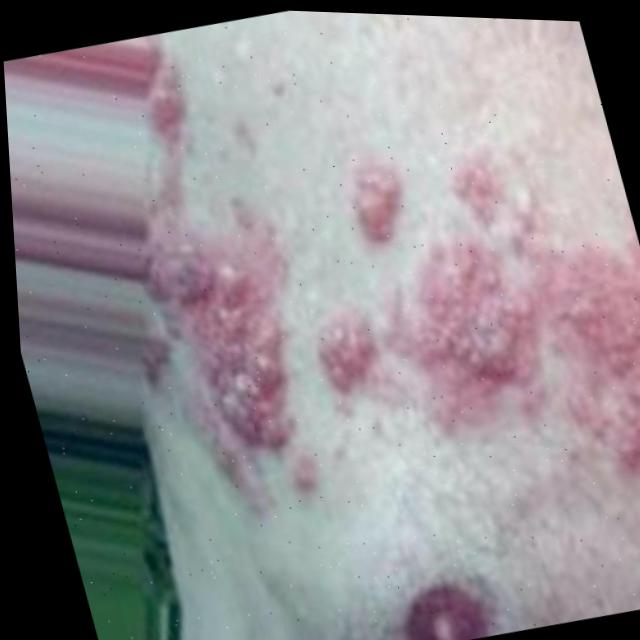Shingles: (111, 111, 640, 554), (131, 58, 199, 141)
